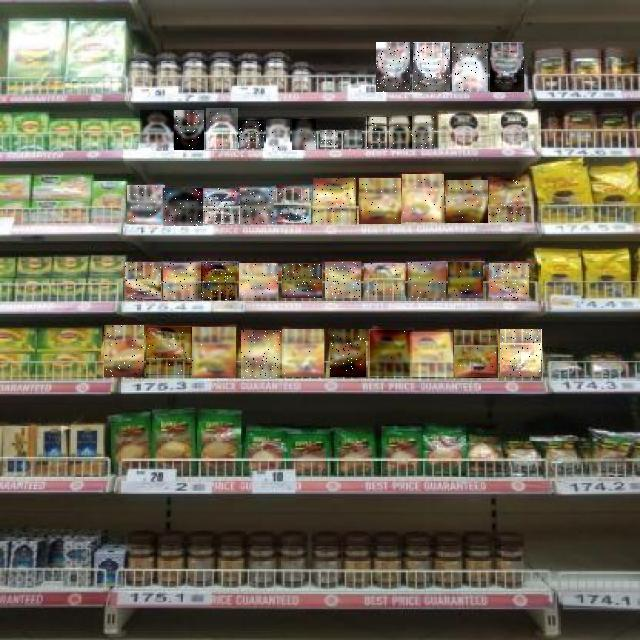Coffee: (146, 328, 192, 378), (192, 327, 236, 378), (454, 330, 498, 378), (104, 325, 144, 377), (313, 178, 356, 225), (402, 175, 444, 223), (282, 329, 324, 377), (501, 329, 543, 377), (410, 332, 453, 377), (359, 178, 401, 224), (370, 330, 412, 376), (242, 330, 282, 378), (413, 42, 450, 92), (446, 180, 488, 223), (489, 178, 529, 222), (452, 43, 488, 91), (331, 329, 367, 377), (376, 42, 410, 92), (491, 42, 525, 92), (163, 188, 203, 226), (127, 185, 165, 224), (364, 264, 405, 300), (489, 263, 529, 299), (239, 264, 278, 300), (202, 188, 240, 224), (408, 262, 446, 298), (201, 262, 237, 300), (125, 262, 161, 300), (283, 265, 323, 299), (207, 108, 239, 150), (164, 263, 200, 300), (140, 110, 175, 148), (240, 188, 276, 224), (325, 262, 361, 298), (275, 188, 311, 223), (448, 262, 483, 298), (174, 110, 204, 150), (293, 119, 317, 150), (238, 120, 264, 148), (412, 116, 434, 149), (390, 116, 412, 149), (267, 120, 291, 150), (367, 116, 387, 149), (344, 130, 362, 148), (320, 130, 338, 148)
